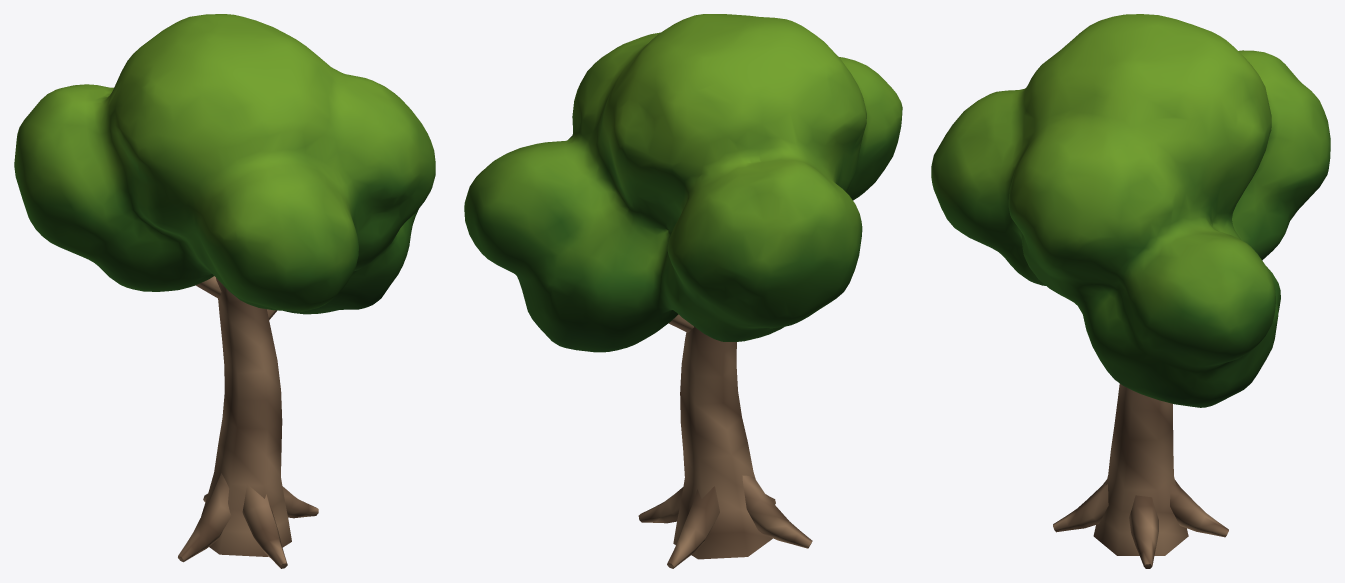
The model's file is SM_StylizedTree.fbx.
3 renders of one model, left to right at view 1: azimuth 30°, elevation 25°; view 2: azimuth 150°, elevation 25°; view 3: azimuth 270°, elevation 25°, orthographic. The views are drawn at different scales.
Parts seen in each view (by area): view 1: SM_StylizedTree; view 2: SM_StylizedTree; view 3: SM_StylizedTree.
Boxes of the visible parts, box(x1,y1,x2,y2) form: SM_StylizedTree: box(14, 14, 435, 568); SM_StylizedTree: box(464, 14, 902, 568); SM_StylizedTree: box(931, 14, 1330, 568).
Size of what is drawn, in the model's own units: 4.97 by 6.39 by 4.61.
